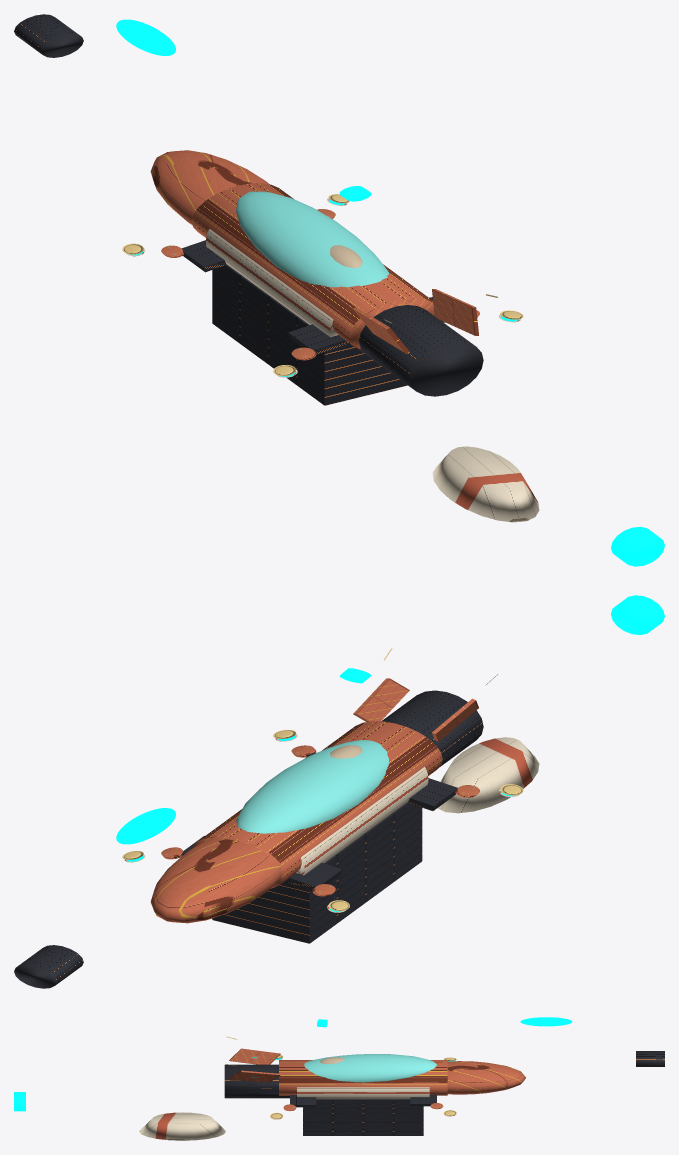
Rendered from hoverbike_v2.glb.
The picture shows the model from 3 angles, top to bottom: view 1: azimuth 30°, elevation 25°; view 2: azimuth 150°, elevation 25°; view 3: azimuth 270°, elevation 25°; orthographic projection. The views are drawn at different scales.
Parts seen in each view (by area): view 1: Chassis_Core, Canopy_GlassDome, Hull_Upper, Engine_Housing, Thruster_Nozzle, Hull_Nose, SidePanel_Left, Intake_Scoop, Thruster_GlowCore, Intake_GlowCore, TailFin_Right, Strut_Rear_Left (+1 smaller); view 2: Chassis_Core, Canopy_GlassDome, Hull_Nose, Hull_Upper, Thruster_Nozzle, Engine_Housing, SidePanel_Left, Intake_Scoop, Thruster_GlowCore, Intake_GlowCore, TailFin_Right, Strut_Rear_Left (+2 smaller); view 3: Chassis_Core, Canopy_GlassDome, Hull_Upper, Hull_Nose, Thruster_Nozzle, SidePanel_Right, Engine_Housing, TailFin_Left, Intake_Scoop, TailFin_Right, Intake_GlowCore, Strut_Rear_Right (+2 smaller).
Boxes of the visible parts, x1=… form: Chassis_Core: x1=212, y1=264, x2=407, y2=405; Canopy_GlassDome: x1=236, y1=191, x2=388, y2=287; Hull_Upper: x1=191, y1=183, x2=434, y2=350; Engine_Housing: x1=358, y1=305, x2=483, y2=396; Thruster_Nozzle: x1=432, y1=446, x2=539, y2=522; Hull_Nose: x1=150, y1=150, x2=269, y2=224; SidePanel_Left: x1=206, y1=229, x2=337, y2=337; Intake_Scoop: x1=14, y1=14, x2=83, y2=57; Thruster_GlowCore: x1=611, y1=527, x2=664, y2=566; Intake_GlowCore: x1=116, y1=19, x2=175, y2=55; TailFin_Right: x1=432, y1=289, x2=478, y2=335; Strut_Rear_Left: x1=288, y1=324, x2=349, y2=354; Chassis_Core: x1=212, y1=802, x2=422, y2=943; Canopy_GlassDome: x1=236, y1=740, x2=388, y2=833; Hull_Nose: x1=150, y1=839, x2=281, y2=923; Hull_Upper: x1=193, y1=721, x2=442, y2=888; Thruster_Nozzle: x1=437, y1=737, x2=539, y2=813; Engine_Housing: x1=381, y1=690, x2=483, y2=766; SidePanel_Left: x1=296, y1=767, x2=428, y2=875; Intake_Scoop: x1=14, y1=945, x2=83, y2=988; Thruster_GlowCore: x1=611, y1=595, x2=664, y2=634; Intake_GlowCore: x1=116, y1=808, x2=175, y2=844; TailFin_Right: x1=353, y1=678, x2=409, y2=721; Strut_Rear_Left: x1=408, y1=778, x2=457, y2=810; Chassis_Core: x1=303, y1=1099, x2=423, y2=1135; Canopy_GlassDome: x1=304, y1=1054, x2=436, y2=1082; Hull_Upper: x1=279, y1=1060, x2=447, y2=1095; Hull_Nose: x1=447, y1=1061, x2=525, y2=1094; Thruster_Nozzle: x1=139, y1=1112, x2=225, y2=1140; SidePanel_Right: x1=297, y1=1087, x2=429, y2=1099; Engine_Housing: x1=224, y1=1064, x2=289, y2=1098; TailFin_Left: x1=229, y1=1048, x2=280, y2=1064; Intake_Scoop: x1=636, y1=1051, x2=664, y2=1066; TailFin_Right: x1=229, y1=1070, x2=280, y2=1082; Intake_GlowCore: x1=520, y1=1017, x2=572, y2=1026; Strut_Rear_Right: x1=290, y1=1095, x2=316, y2=1107.
Size of the model in its own units: 1.9 by 1.52 by 8.11.
7 materials, 4 textured.
